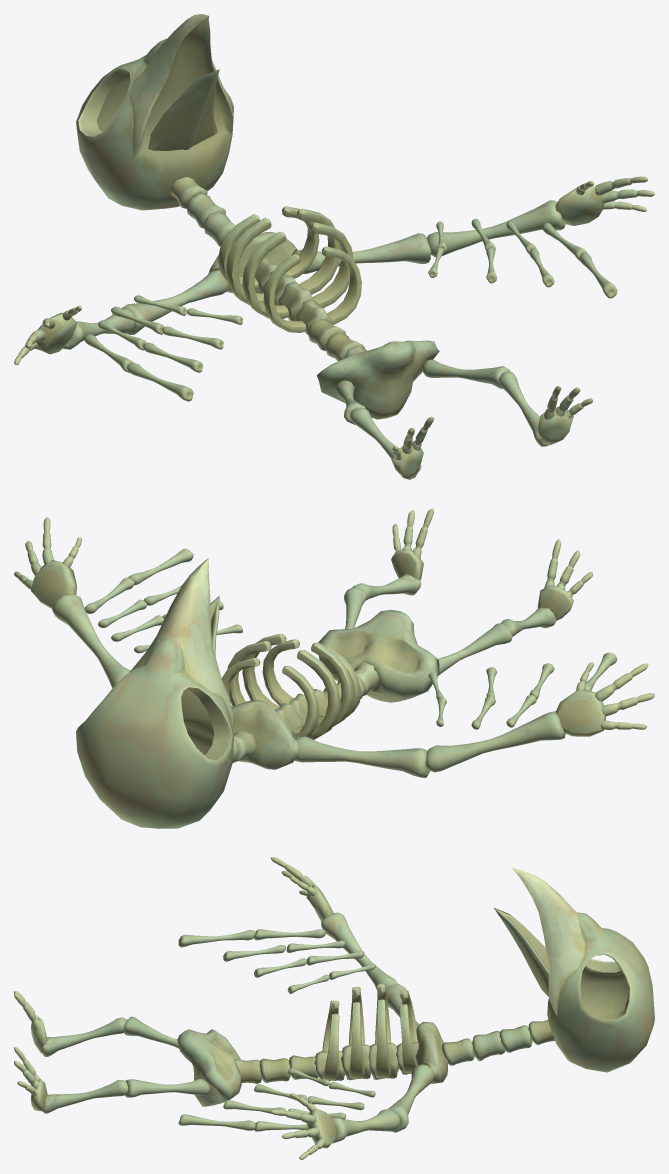
Rendered from skelecrow.fbx.
3 renders of one model, top to bottom at view 1: azimuth 30°, elevation 25°; view 2: azimuth 150°, elevation 25°; view 3: azimuth 270°, elevation 25°, orthographic. The views are drawn at different scales.
Parts seen in each view (by area): view 1: skullCrow, longBone.007, hipsBone, lowerJaw, rib5, rib4, rib1, fingerBone6, longBone.001, rib7, longBone1, longBone3 (+10 smaller); view 2: skullCrow, hipsBone, longBone.007, fingerBone13, polySurface5, longBone2, longBone3, rib1, fingerBone6, rib5, longBone.001, polySurface8 (+9 smaller); view 3: skullCrow, longBone.007, hipsBone, rib1, rib5, fingerBone6, lowerJaw, rib4, longBone2, polySurface5, rib7, longBone.001 (+15 smaller).
Part boxes in pixels (bbox=[...]): skullCrow: bbox=[76, 14, 233, 210]; longBone.007: bbox=[84, 218, 617, 401]; hipsBone: bbox=[316, 340, 439, 419]; lowerJaw: bbox=[148, 69, 219, 150]; rib5: bbox=[242, 222, 353, 320]; rib4: bbox=[263, 246, 361, 335]; rib1: bbox=[226, 208, 340, 305]; fingerBone6: bbox=[555, 176, 654, 225]; longBone.001: bbox=[426, 200, 565, 257]; rib7: bbox=[218, 206, 319, 292]; longBone1: bbox=[291, 233, 431, 273]; longBone3: bbox=[121, 269, 229, 334]; skullCrow: bbox=[76, 557, 233, 828]; hipsBone: bbox=[318, 609, 439, 702]; longBone.007: bbox=[84, 548, 617, 729]; fingerBone13: bbox=[556, 662, 654, 736]; polySurface5: bbox=[231, 700, 297, 769]; longBone2: bbox=[426, 711, 565, 772]; longBone3: bbox=[294, 736, 430, 777]; rib1: bbox=[227, 641, 340, 739]; fingerBone6: bbox=[14, 517, 81, 608]; rib5: bbox=[242, 633, 354, 726]; longBone.001: bbox=[52, 594, 130, 688]; polySurface8: bbox=[537, 539, 592, 620]; skullCrow: bbox=[512, 868, 654, 1072]; longBone.007: bbox=[178, 929, 375, 1131]; hipsBone: bbox=[177, 1029, 241, 1106]; rib1: bbox=[368, 983, 398, 1079]; rib5: bbox=[341, 986, 370, 1080]; fingerBone6: bbox=[270, 1093, 336, 1159]; lowerJaw: bbox=[493, 907, 549, 996]; rib4: bbox=[314, 1000, 344, 1080]; longBone2: bbox=[321, 912, 398, 990]; polySurface5: bbox=[411, 1021, 447, 1083]; rib7: bbox=[396, 990, 418, 1074]; longBone.001: bbox=[331, 1109, 400, 1143].
Bounding box in the file's own units: 532 × 218 × 539.
Materials: 1 (1 with a texture image).
